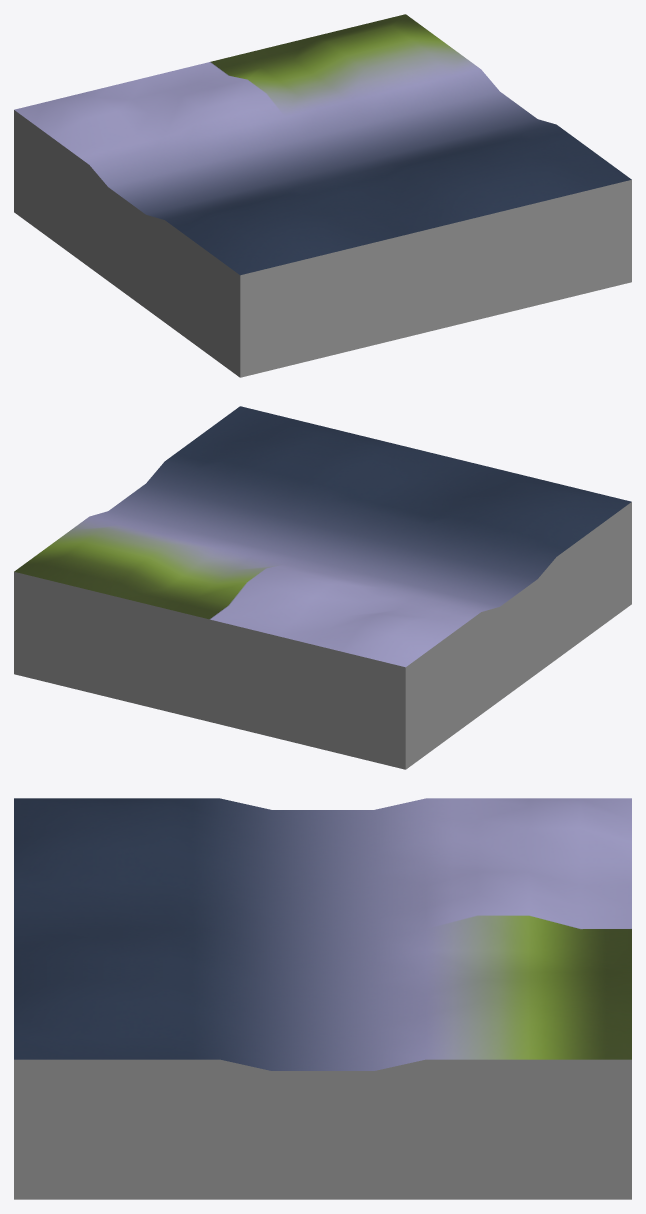
Rendered from PathHillStraight.fbx.
The picture shows the model from 3 angles, top to bottom: view 1: azimuth 30°, elevation 25°; view 2: azimuth 150°, elevation 25°; view 3: azimuth 270°, elevation 25°; orthographic projection. The views are drawn at different scales.
Visible parts, largest first — view 1: PathHillStraight; view 2: PathHillStraight; view 3: PathHillStraight.
Boxes of the visible parts, box(x1,y1,x2,y2) form: PathHillStraight: box(14, 14, 631, 377); PathHillStraight: box(14, 406, 631, 769); PathHillStraight: box(14, 798, 631, 1199).
Bounding box in the file's own units: 1200 × 329 × 1200.
